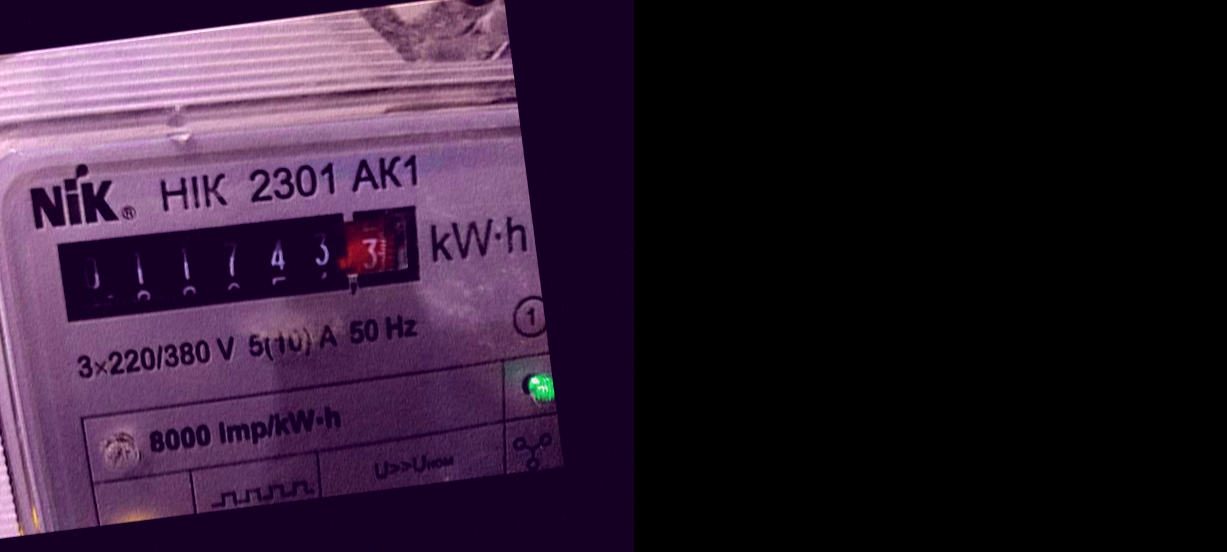0: (80, 253, 106, 294), (129, 246, 152, 289)
1: (176, 241, 197, 284)
3: (310, 226, 335, 272), (359, 233, 384, 273)
4: (265, 232, 290, 274)
7: (218, 235, 247, 281)
screen: (37, 184, 436, 340)
